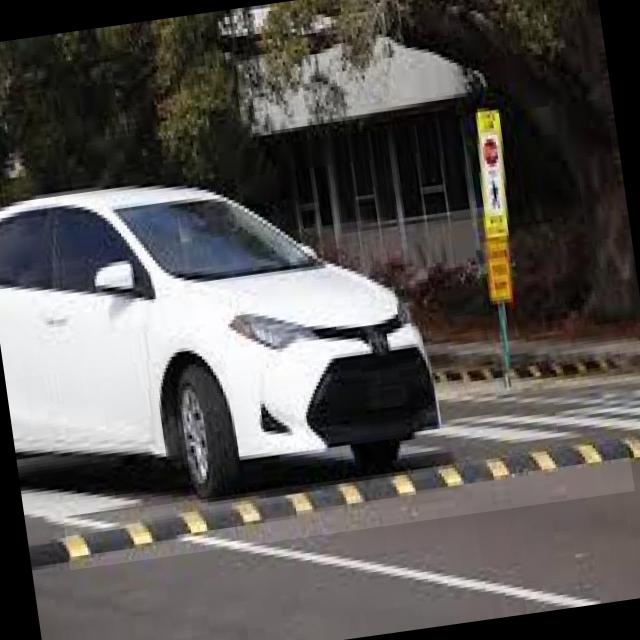bump: (64, 440, 636, 570)
